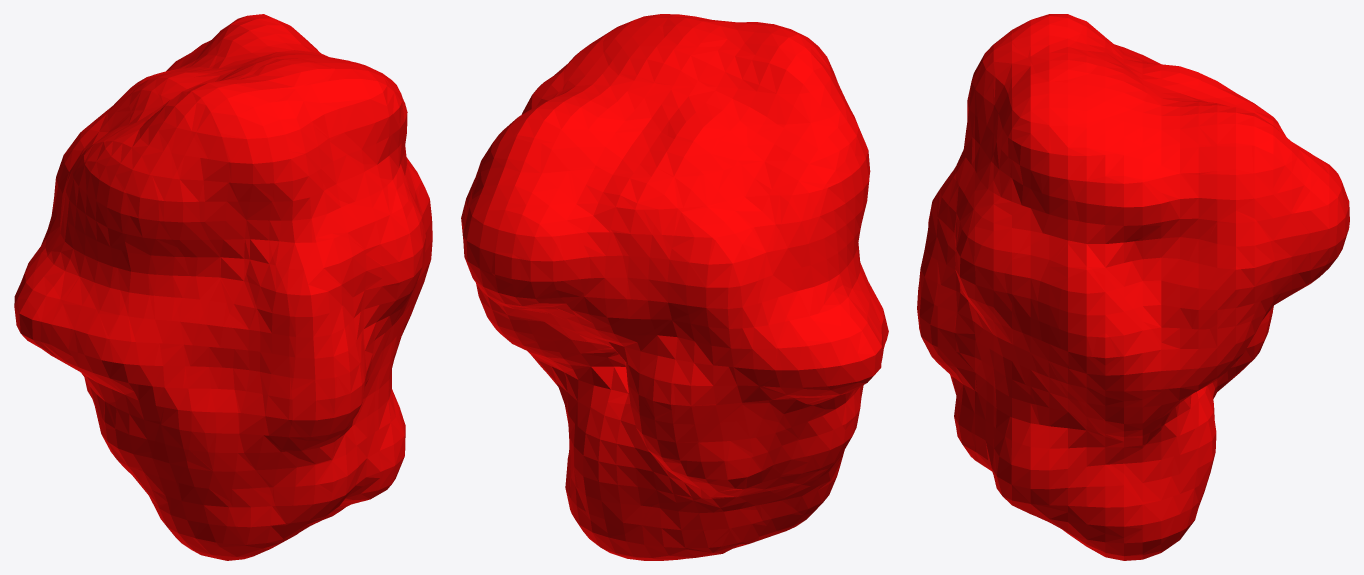
File: nadD_coarse.dae
3 views of the same model, side by side, from view 1: azimuth 30°, elevation 25°; view 2: azimuth 150°, elevation 25°; view 3: azimuth 270°, elevation 25° (orthographic). The views are drawn at different scales.
Parts seen in each view (by area): view 1: nadD; view 2: nadD; view 3: nadD.
Boxes of the visible parts, x1,y1,x2,y2 form: nadD: [14, 14, 432, 560]; nadD: [461, 14, 888, 560]; nadD: [917, 14, 1349, 560].
Size of the model in its own units: 44.78 by 55.88 by 45.2.
